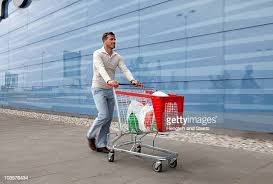with_basket: (108, 79, 186, 173)
without_mask: (103, 32, 117, 49)
